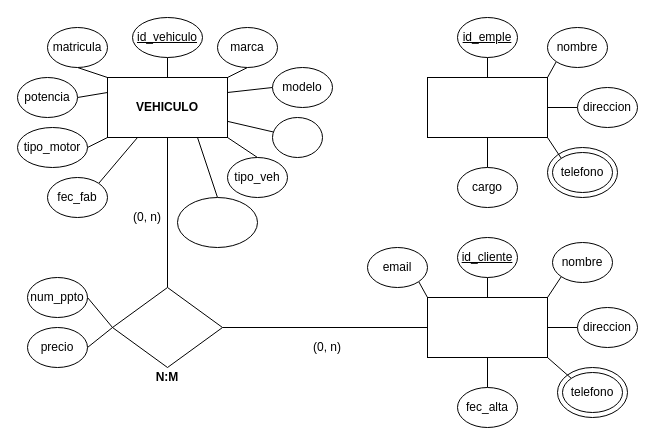
Image size: 655x445. Some labels were removed from this diagram. Each missing label, with the centre of its shape:
CLIENTE: point 487,327
color: point 297,137
EMPLEADO: point 487,107
num_bastidor: point 217,222
solicita_ppto: point 167,327
